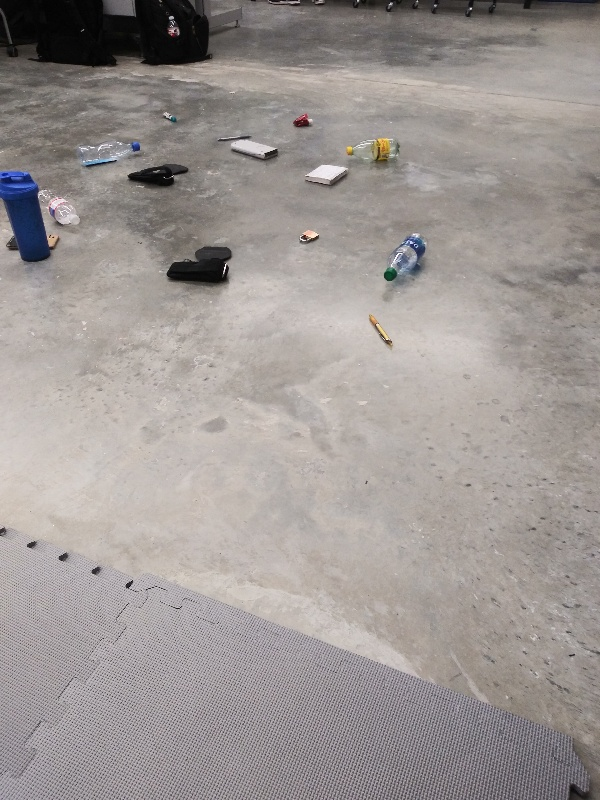bottle: (379, 228, 431, 287), (73, 133, 144, 172), (35, 185, 86, 230), (341, 135, 404, 165)
